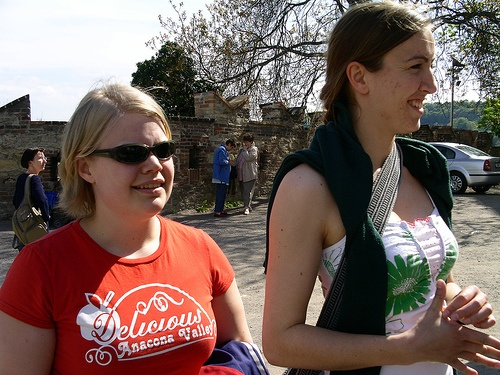head: (65, 81, 179, 226), (326, 2, 437, 137), (18, 145, 50, 176), (241, 132, 256, 148), (224, 138, 236, 154)
person: (249, 1, 471, 375), (2, 83, 269, 373), (10, 146, 50, 241), (235, 131, 259, 215), (211, 138, 231, 216)
